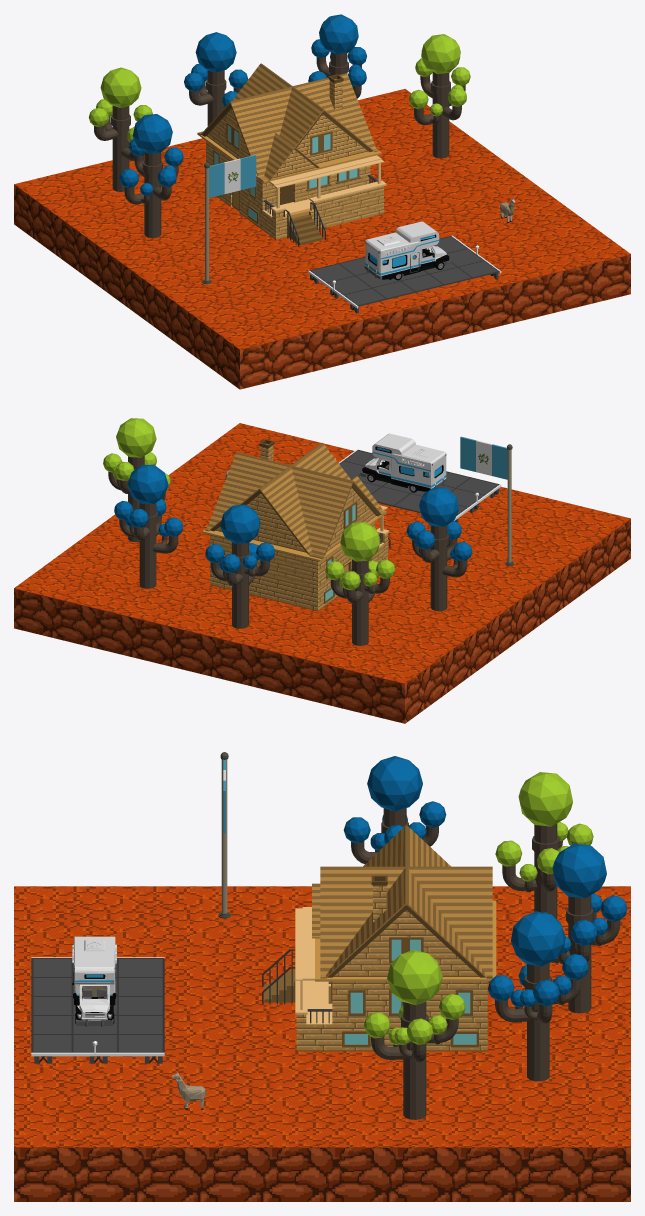
3 renders of one model, top to bottom at view 1: azimuth 30°, elevation 25°; view 2: azimuth 150°, elevation 25°; view 3: azimuth 270°, elevation 25°, orthographic. The views are drawn at different scales.
Visible parts, largest first — view 1: Cube.001, Cube.508, VEHICLES_CAMPER, OBJRANDOM_GUATEMALAN_FLAG; view 2: Cube.001, Cube.508, VEHICLES_CAMPER, OBJRANDOM_GUATEMALAN_FLAG; view 3: Cube.001, Cube.508, VEHICLES_CAMPER, OBJRANDOM_GUATEMALAN_FLAG.
Boxes of the visible parts, x1=… form: Cube.001: x1=14, y1=14, x2=630, y2=389; Cube.508: x1=197, y1=63, x2=386, y2=246; VEHICLES_CAMPER: x1=364, y1=221, x2=451, y2=280; OBJRANDOM_GUATEMALAN_FLAG: x1=202, y1=155, x2=256, y2=284; Cube.001: x1=14, y1=418, x2=630, y2=723; Cube.508: x1=202, y1=439, x2=390, y2=611; VEHICLES_CAMPER: x1=360, y1=433, x2=446, y2=492; OBJRANDOM_GUATEMALAN_FLAG: x1=460, y1=436, x2=514, y2=565; Cube.001: x1=14, y1=756, x2=630, y2=1201; Cube.508: x1=262, y1=825, x2=496, y2=1051; VEHICLES_CAMPER: x1=72, y1=936, x2=116, y2=1026; OBJRANDOM_GUATEMALAN_FLAG: x1=218, y1=752, x2=230, y2=918.
Bounding box in the file's own units: 4000 × 1687 × 4000.
38 materials, 6 textured.
